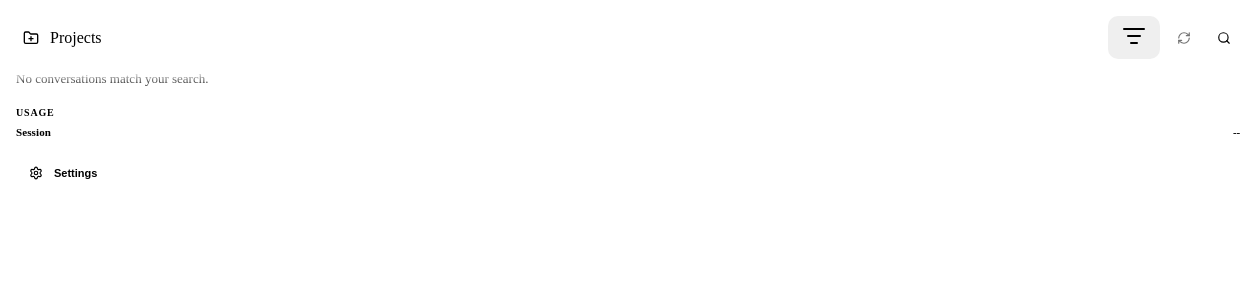
Test: Sidebar › opens thread sort menu from the header filter button
Click the button named "Organize and sort threads". click: (1134, 38)
box: [1108,16,1160,59]
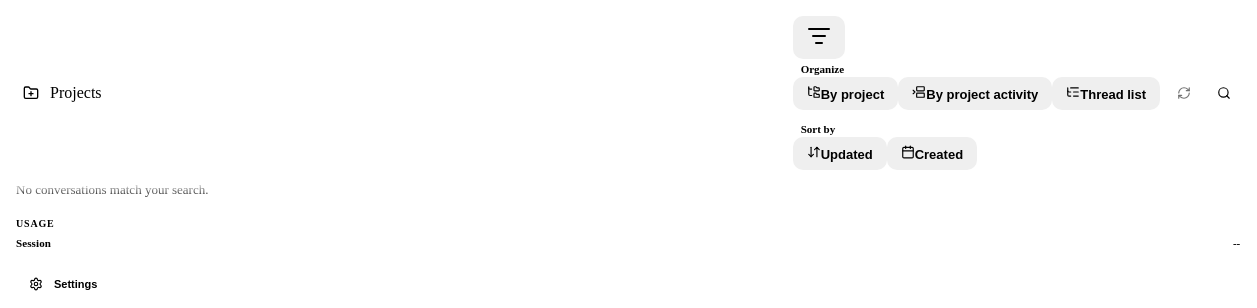
Click the menu item "Created". click: (932, 154)
box: [887,137,977,170]
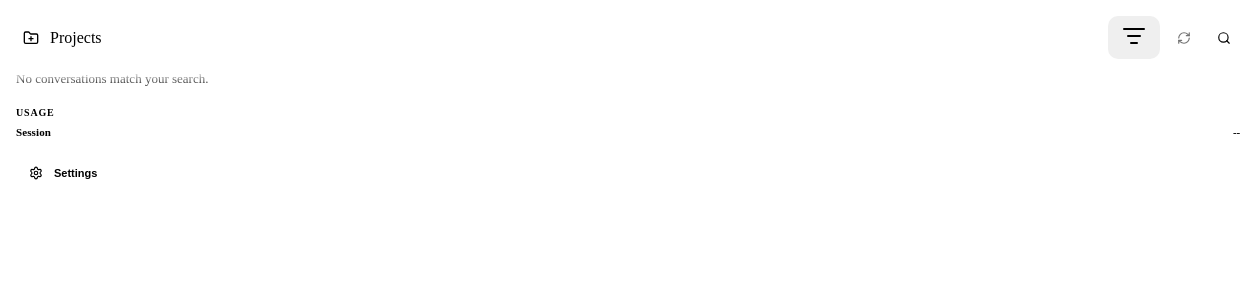
Expected: the menu is gone
